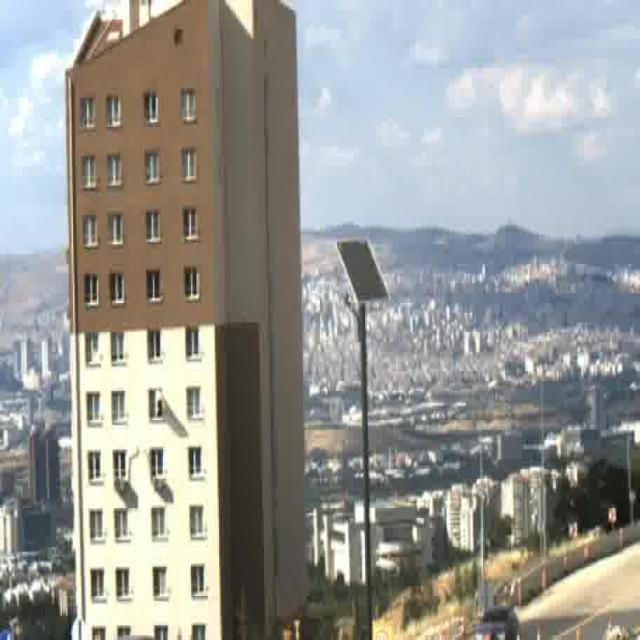Car: (476, 606, 520, 640)
